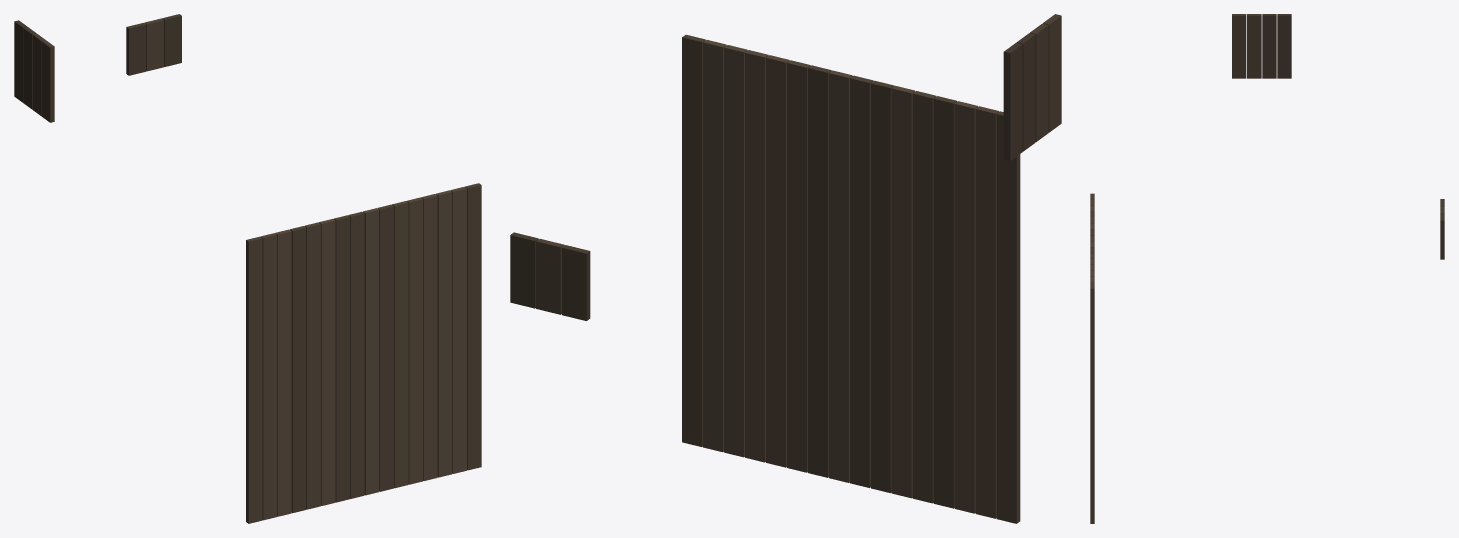
The model's file is SM_Bld_005_Wood.glb.
3 renders of one model, left to right at view 1: azimuth 30°, elevation 25°; view 2: azimuth 150°, elevation 25°; view 3: azimuth 270°, elevation 25°, orthographic. The views are drawn at different scales.
Parts seen in each view (by area): view 1: SM_Bld_005_Wood; view 2: SM_Bld_005_Wood; view 3: SM_Bld_005_Wood.
Part boxes in pixels (<box>): SM_Bld_005_Wood: <box>14,14,481,523</box>; SM_Bld_005_Wood: <box>510,14,1061,523</box>; SM_Bld_005_Wood: <box>1090,14,1444,523</box>.
Bounding box in the file's own units: 3.86 × 4.7 × 4.09.
